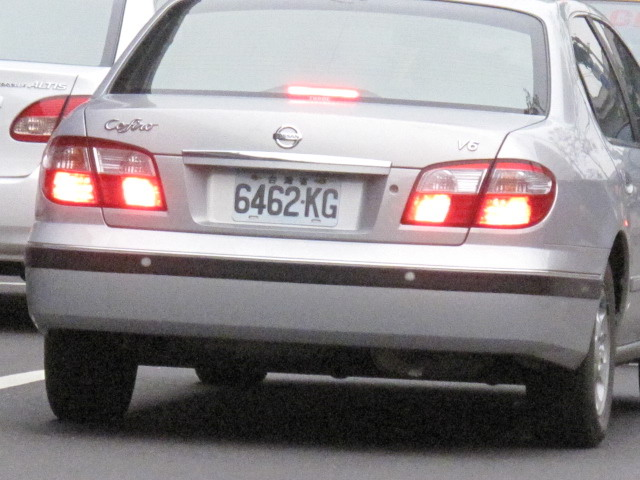plate: (232, 168, 344, 229)
